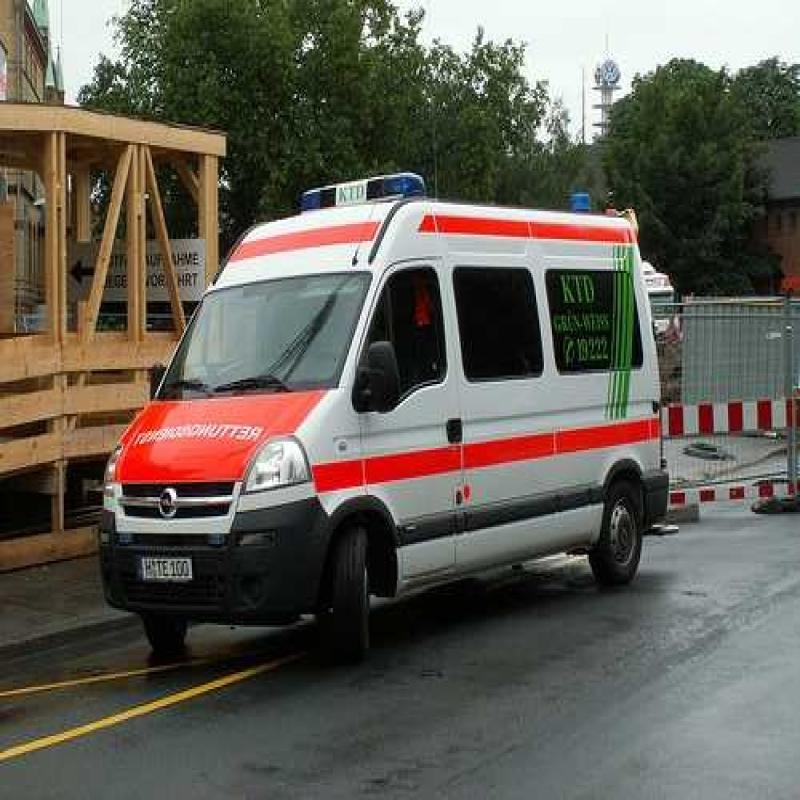AmbulanceSiren: (285, 154, 439, 232)
